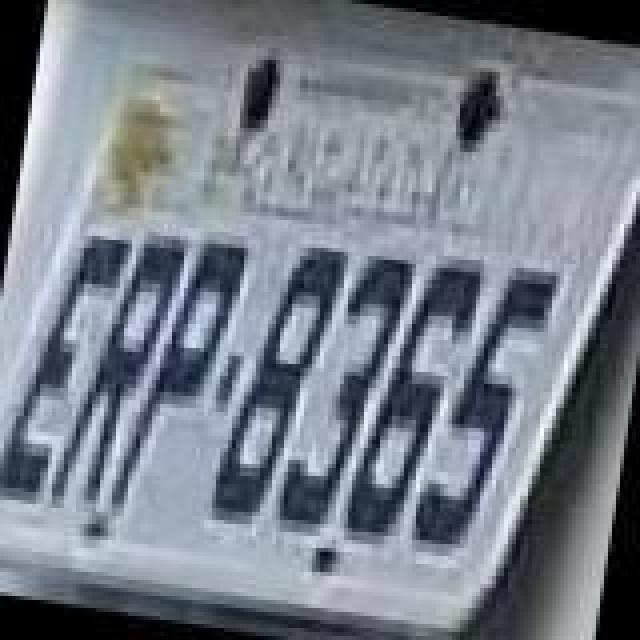3: (272, 244, 416, 540)
5: (412, 250, 564, 558)
6: (344, 250, 488, 550)
8: (204, 232, 348, 536)
E: (0, 220, 128, 516)
P: (104, 228, 248, 524)
R: (48, 224, 192, 520)
